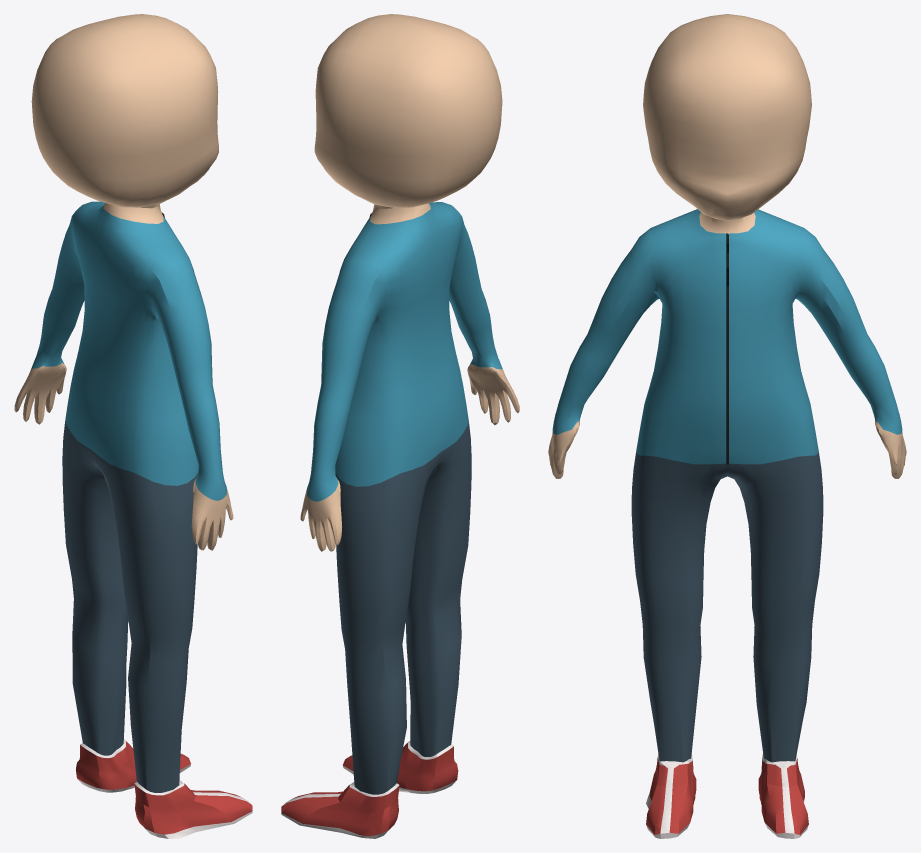
File: Custom Character Jacket.fbx
3 renders of one model, left to right at view 1: azimuth 30°, elevation 25°; view 2: azimuth 150°, elevation 25°; view 3: azimuth 270°, elevation 25°, orthographic. The views are drawn at different scales.
Parts seen in each view (by area): view 1: Body; view 2: Body; view 3: Body, Zipper.
Part boxes in pixels (x1,y1,x2,y2): Body: (14,14,252,838); Body: (281,14,519,838); Body: (548,14,906,838); Zipper: (726,233,728,464).
Size of the model in its own units: 97.71 by 422 by 177.
